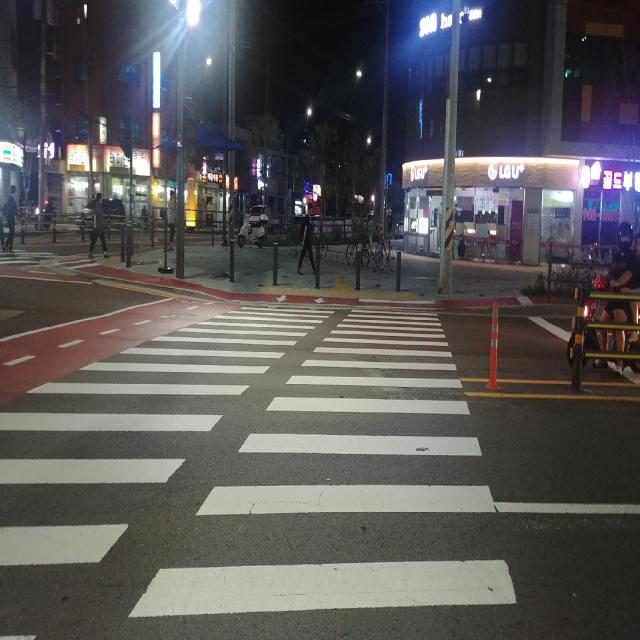횡단보도: (0, 291, 521, 625)
